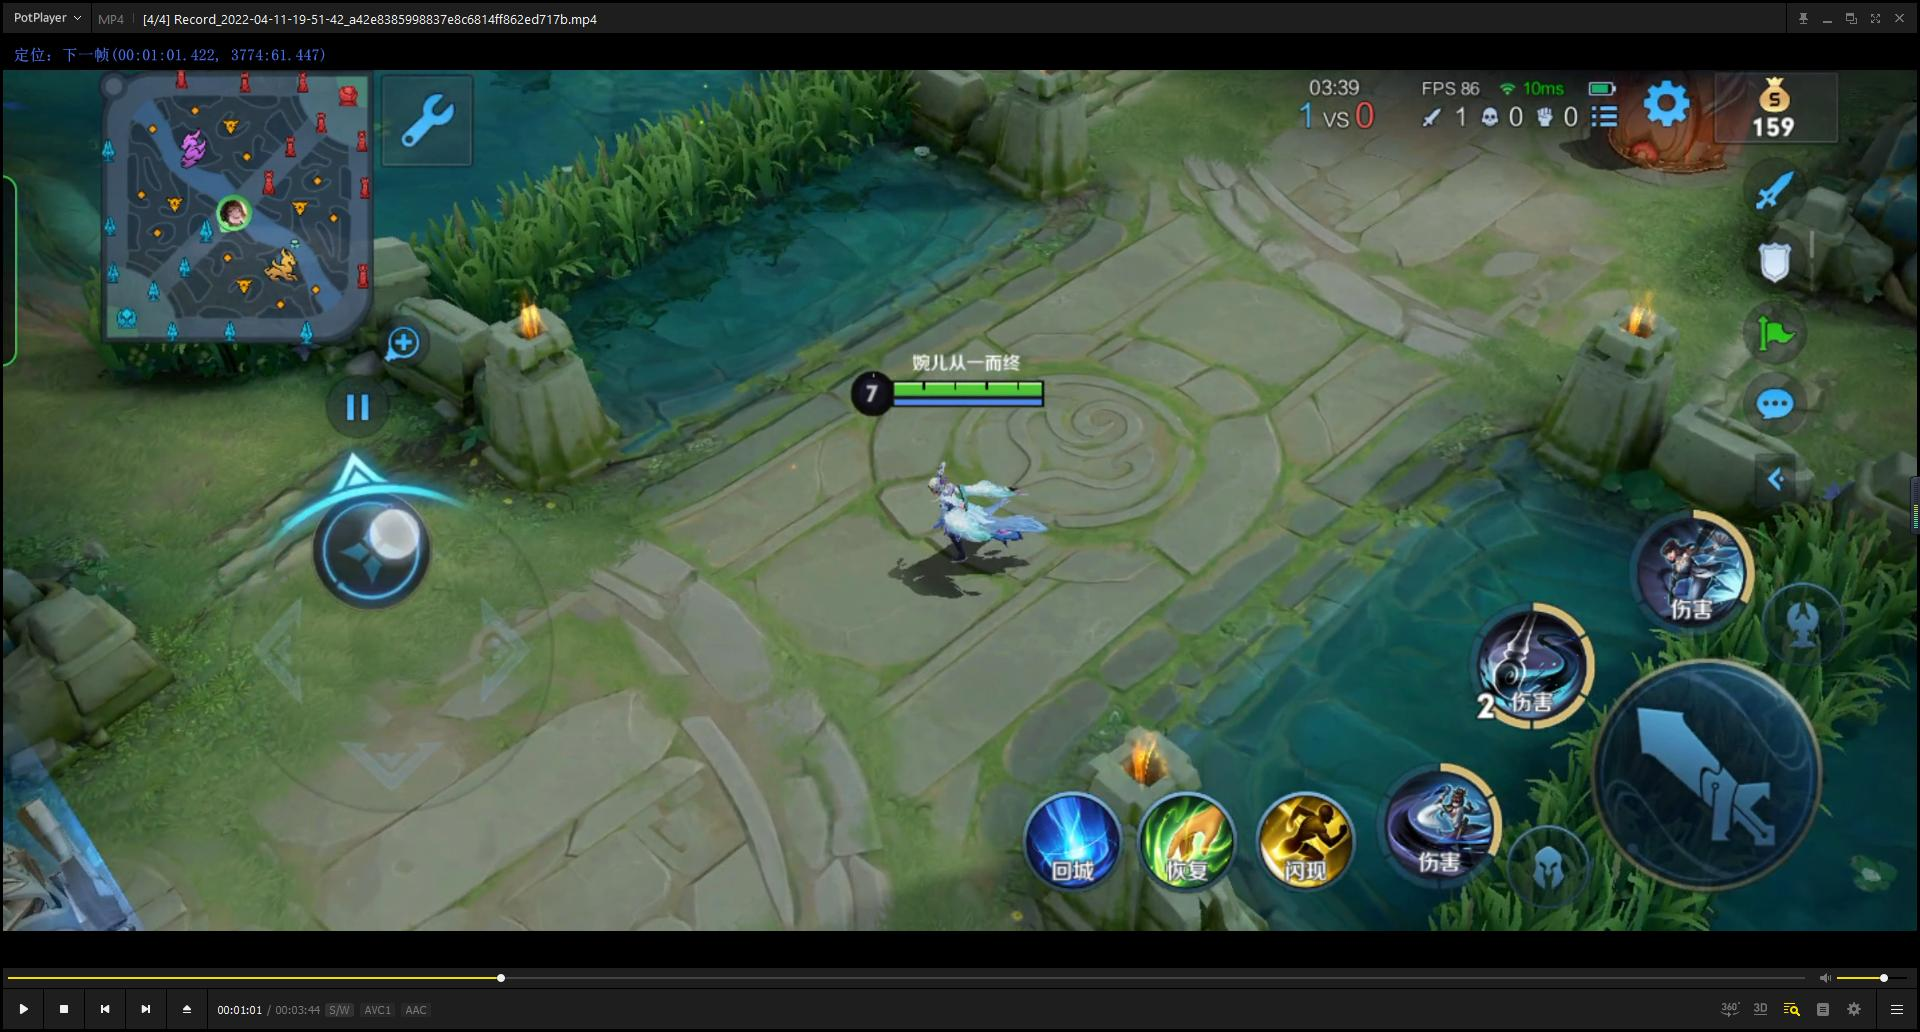Hero: (892, 432, 1079, 599)
Tower: (1, 718, 194, 935), (1543, 72, 1781, 202)
